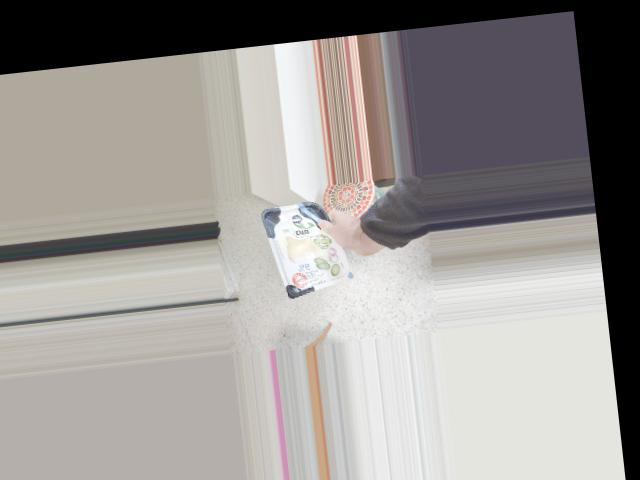cheese: (267, 192, 346, 301)
